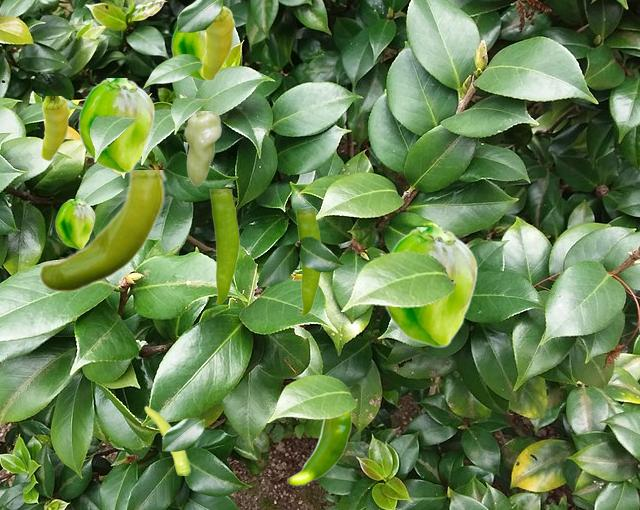green_chili: (37, 170, 166, 290), (384, 227, 477, 347), (78, 78, 154, 172), (286, 412, 351, 485), (209, 189, 238, 304), (144, 405, 189, 474), (183, 111, 220, 185), (295, 210, 321, 315), (200, 6, 234, 80), (55, 199, 94, 248), (40, 96, 69, 160), (171, 25, 204, 80)
